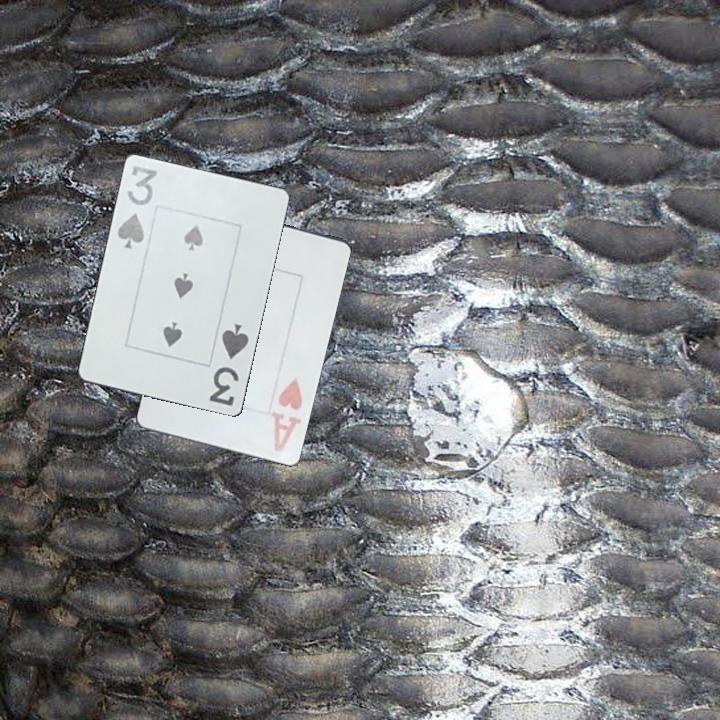3s: (113, 161, 160, 251), (205, 320, 251, 409)
Ah: (267, 373, 305, 455)
